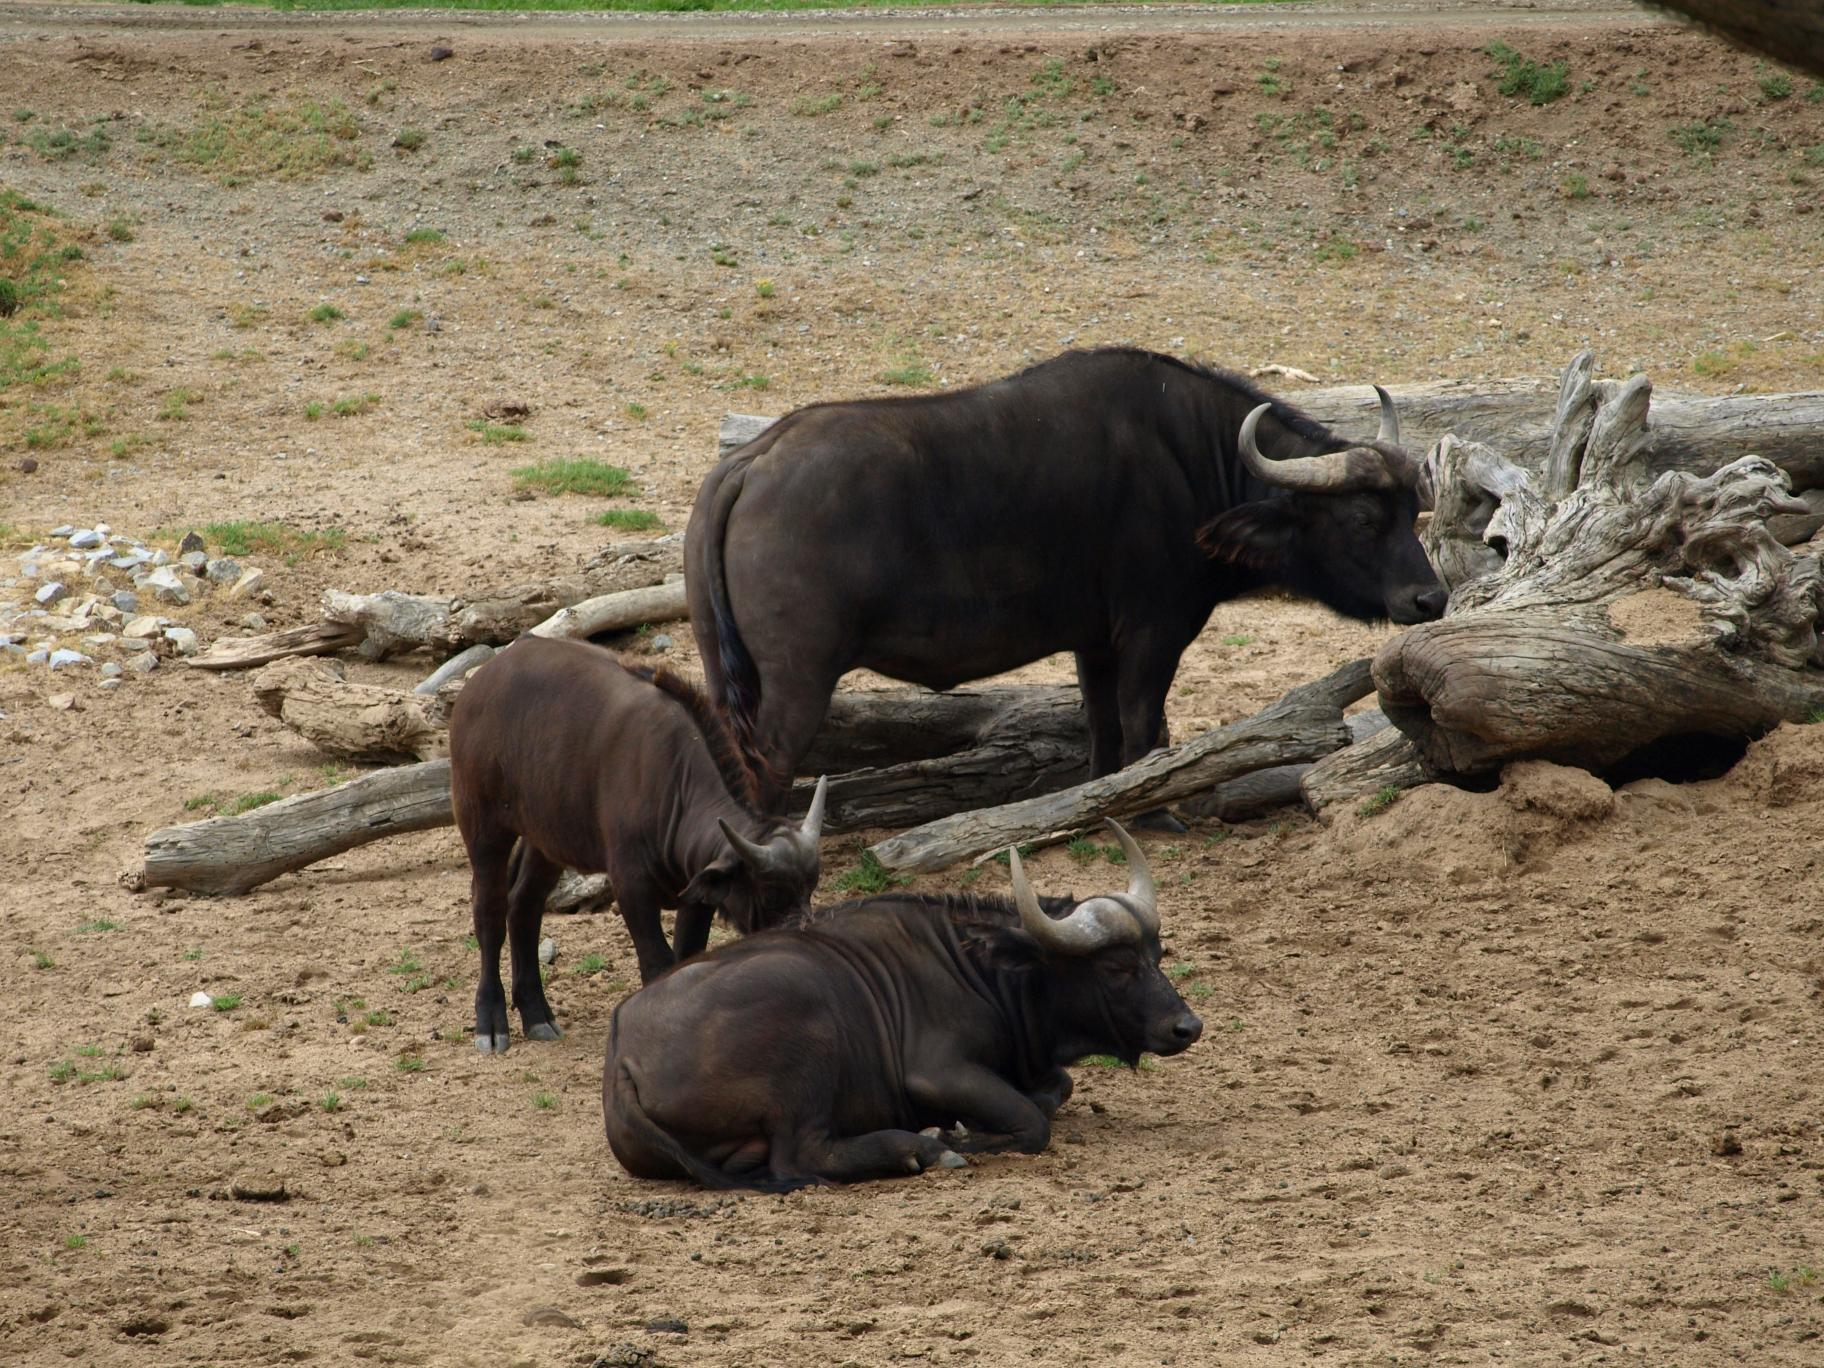Buffalo: (0, 1, 1815, 1368)
